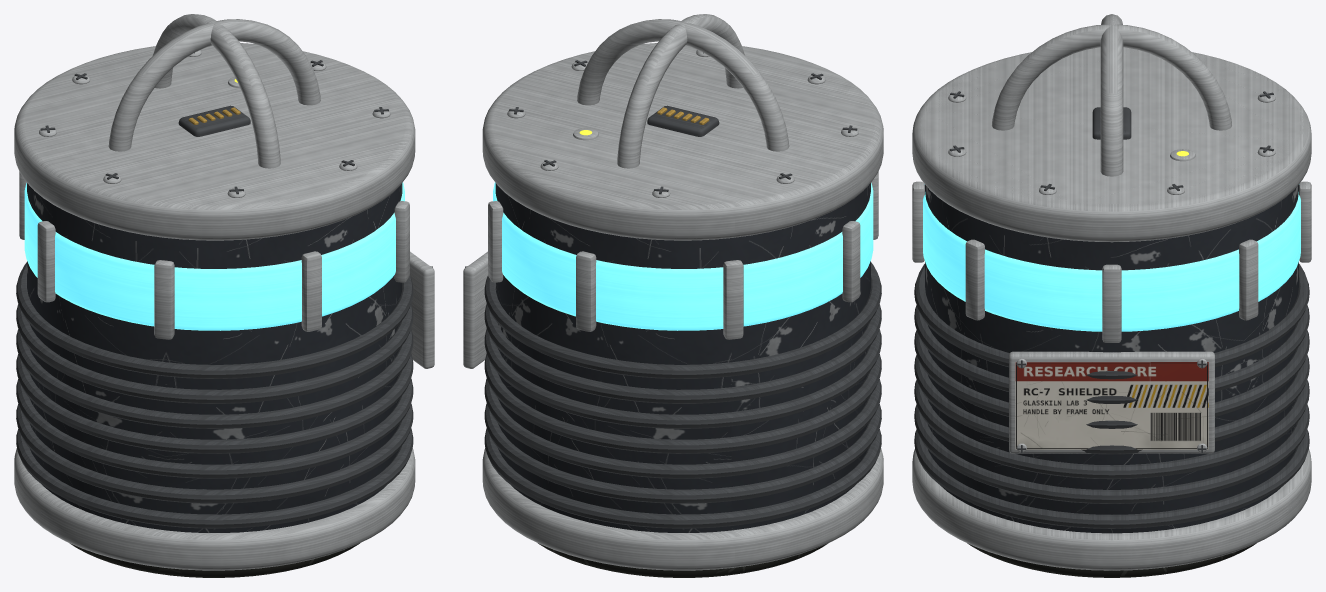
File: salvage_research_core.glb
3 renders of one model, left to right at view 1: azimuth 30°, elevation 25°; view 2: azimuth 150°, elevation 25°; view 3: azimuth 270°, elevation 25°, orthographic.
Visible parts, largest first — view 1: Cylinder.002, Cylinder, Cylinder.001, Cylinder.011, Torus.006, Torus, Torus.007, Torus.002, Torus.003, Torus.004, Torus.001, Torus.005 (+8 smaller); view 2: Cylinder.002, Cylinder, Cylinder.001, Cylinder.011, Torus.006, Torus, Torus.007, Torus.002, Torus.003, Torus.004, Torus.001, Torus.005 (+8 smaller); view 3: Cylinder.002, Cylinder, Cylinder.001, Plane, Cylinder.011, Torus.008, Torus, Torus.001, Torus.002, Cube.031, Torus.006, Torus.003 (+10 smaller).
Boxes of the visible parts, left/top/right/bottom form: Cylinder.002: left=14, top=43, right=415, bottom=240; Cylinder: left=27, top=183, right=402, bottom=532; Cylinder.001: left=24, top=182, right=404, bottom=330; Cylinder.011: left=14, top=448, right=415, bottom=570; Torus.006: left=16, top=262, right=413, bottom=378; Torus: left=16, top=428, right=413, bottom=528; Torus.007: left=108, top=19, right=320, bottom=151; Torus.002: left=16, top=378, right=413, bottom=478; Torus.003: left=16, top=354, right=413, bottom=453; Torus.004: left=16, top=329, right=413, bottom=428; Torus.001: left=16, top=403, right=413, bottom=503; Torus.005: left=16, top=304, right=413, bottom=403; Cylinder.002: left=482, top=43, right=883, bottom=240; Cylinder: left=495, top=183, right=870, bottom=532; Cylinder.001: left=493, top=182, right=873, bottom=330; Cylinder.011: left=482, top=448, right=883, bottom=570; Torus.006: left=484, top=262, right=881, bottom=378; Torus: left=484, top=428, right=881, bottom=528; Torus.007: left=577, top=19, right=789, bottom=151; Torus.002: left=484, top=378, right=881, bottom=478; Torus.003: left=484, top=354, right=881, bottom=453; Torus.004: left=484, top=329, right=881, bottom=428; Torus.001: left=484, top=403, right=881, bottom=503; Torus.005: left=484, top=304, right=881, bottom=403; Cylinder.002: left=912, top=47, right=1311, bottom=242; Cylinder: left=925, top=184, right=1298, bottom=533; Cylinder.001: left=923, top=184, right=1300, bottom=331; Plane: left=1015, top=362, right=1208, bottom=449; Cylinder.011: left=912, top=449, right=1311, bottom=570; Torus.008: left=992, top=24, right=1231, bottom=130; Torus: left=914, top=429, right=1309, bottom=528; Torus.001: left=914, top=404, right=1309, bottom=503; Torus.002: left=914, top=379, right=1309, bottom=479; Cube.031: left=1009, top=351, right=1214, bottom=453; Torus.006: left=914, top=264, right=1309, bottom=379; Torus.003: left=914, top=355, right=1309, bottom=454.
Bounding box in the file's own units: 0.124 × 0.1652 × 0.124.
Materials: 8 (7 with a texture image).
